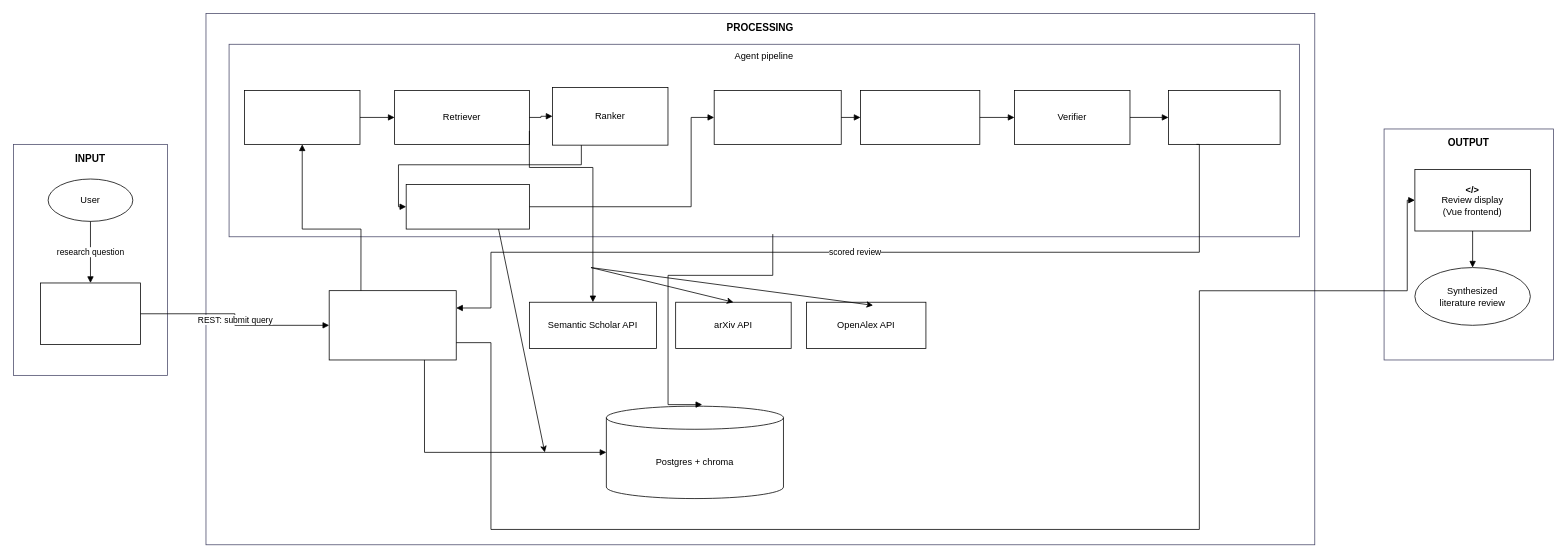
This 1567x558 diagram has some shape labels left out. The shapes that lost their labels are listed below. From the top down, each one's centre as x and y in pixels, then its label:
At (302,117): "Planner".
At (777,117): "Extractor".
At (920,117): "Writer".
At (1224,117): "Critic".
At (467,206): "Paper Cache".
At (90,313): "</> Vue 3 frontend (query form)".
At (392,325): "</> FastAPI backend (request handling)".
